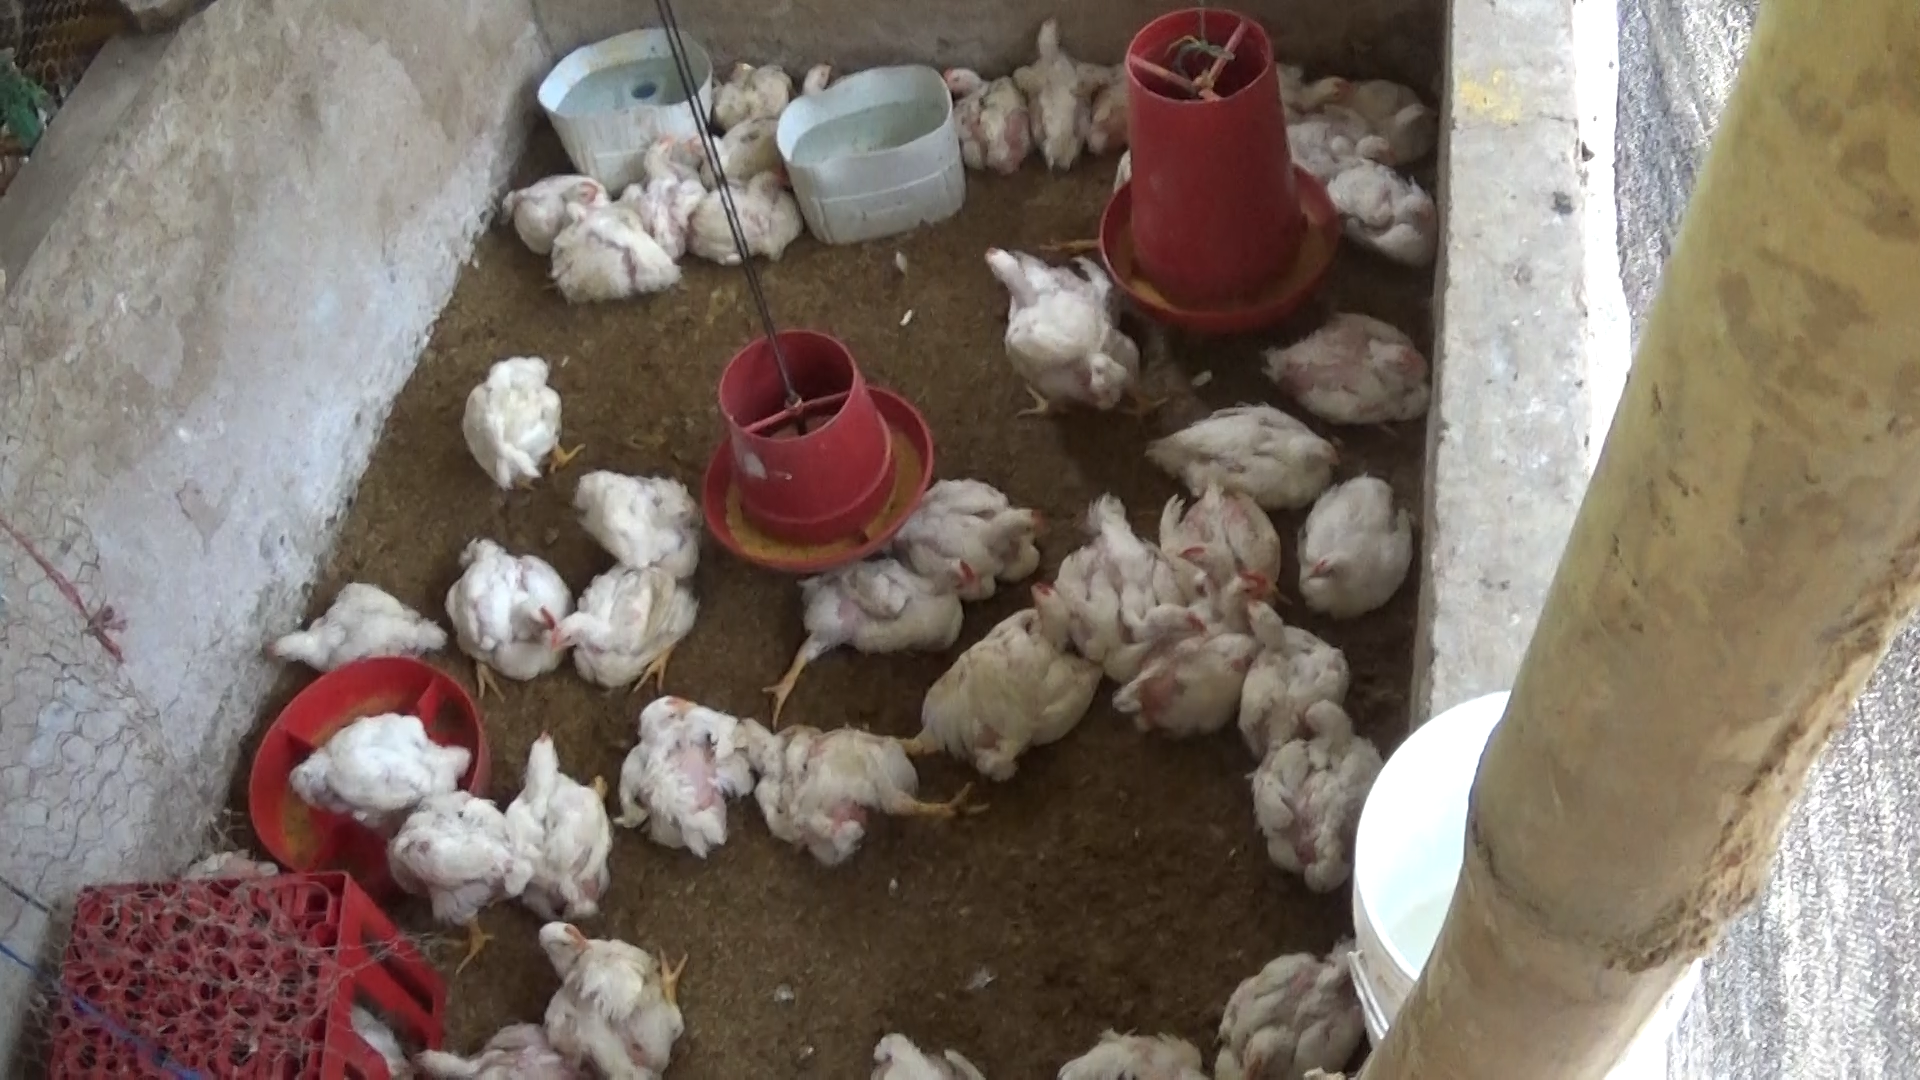Pollos: (742, 549, 1013, 731), (905, 588, 1096, 796), (960, 237, 1164, 409), (363, 775, 535, 977), (752, 719, 972, 868), (1234, 688, 1391, 893), (1054, 497, 1218, 669), (542, 541, 705, 712), (491, 717, 628, 918), (634, 667, 773, 862), (530, 920, 702, 1077), (270, 696, 469, 828), (436, 535, 596, 692), (1207, 936, 1375, 1079), (1146, 396, 1341, 517), (1276, 458, 1420, 618), (444, 348, 596, 497), (1259, 301, 1429, 422), (895, 477, 1062, 593), (255, 582, 465, 669), (537, 204, 688, 320), (562, 462, 716, 574), (673, 167, 814, 284), (1228, 589, 1350, 723), (1313, 153, 1447, 268), (1166, 477, 1276, 612), (1006, 32, 1117, 160), (931, 46, 1035, 173), (688, 115, 812, 200), (1313, 62, 1433, 142), (495, 167, 612, 243), (1255, 44, 1350, 135), (617, 125, 694, 237), (717, 58, 793, 119), (796, 57, 836, 91)
